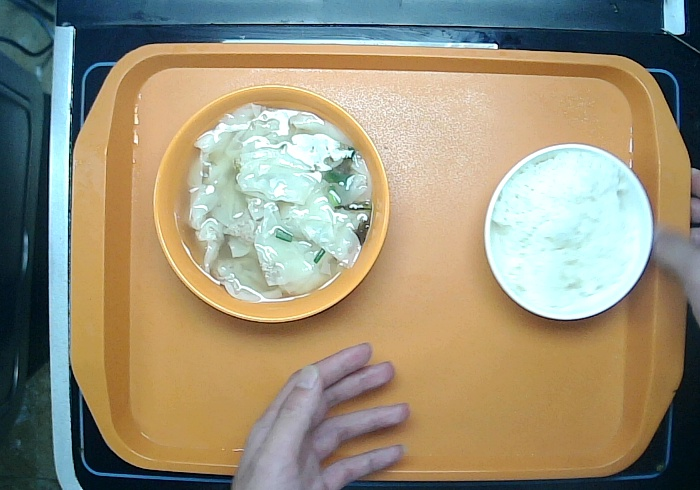NLDX-Fan_Wan: (475, 137, 659, 330)
NLDX-Hun_Tun_Wan: (148, 83, 392, 329)
